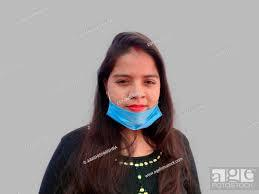mask_weared_incorrect: (110, 45, 160, 128)
